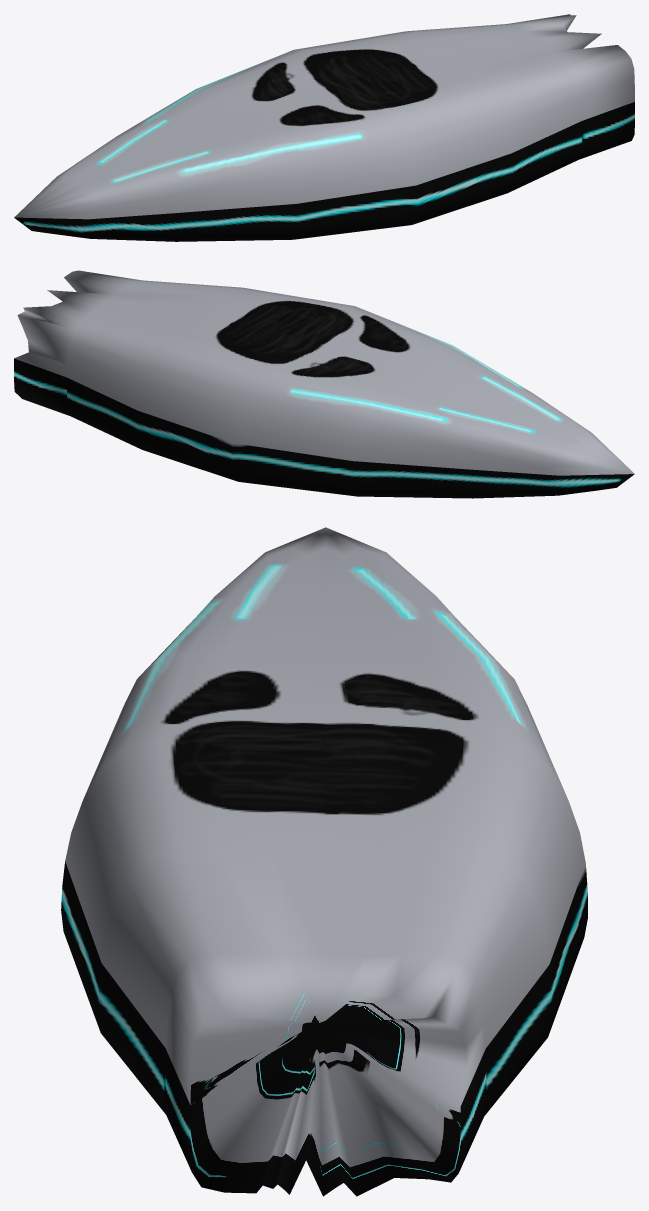
The model's file is Ship2.fbx.
3 views of the same model, one above another, from view 1: azimuth 30°, elevation 25°; view 2: azimuth 150°, elevation 25°; view 3: azimuth 270°, elevation 25° (orthographic). The views are drawn at different scales.
Visible parts, largest first — view 1: Cube.001; view 2: Cube.001; view 3: Cube.001.
Part boxes in pixels (x1,y1,x2,y2): Cube.001: (14, 14, 634, 241); Cube.001: (14, 270, 634, 498); Cube.001: (61, 527, 587, 1196).
Bounding box in the file's own units: 787 × 305 × 134.
